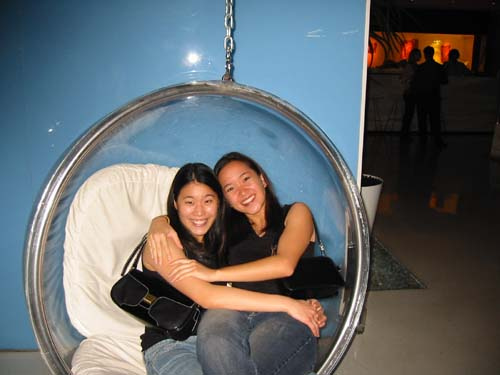without_mask: (164, 168, 226, 239), (215, 154, 273, 223)
